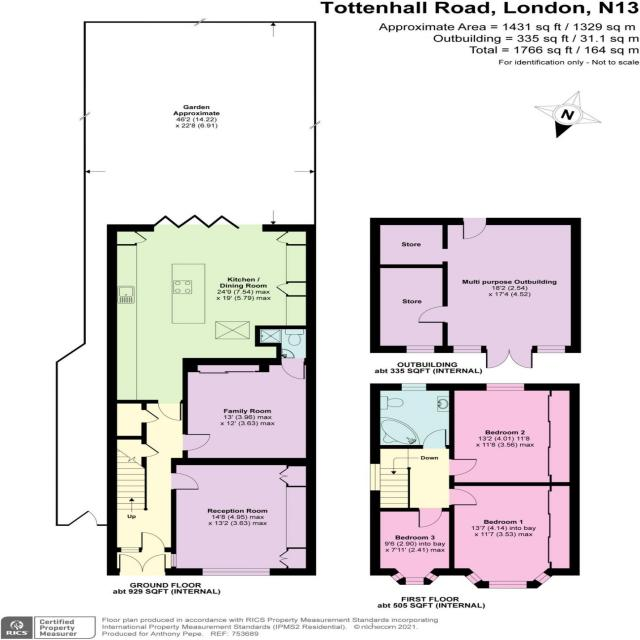DOOR: (461, 217, 487, 240), (449, 458, 478, 477), (281, 358, 306, 380), (418, 305, 448, 323), (157, 400, 182, 421), (182, 433, 211, 451), (417, 508, 443, 528), (171, 472, 199, 490), (450, 488, 478, 506), (141, 532, 166, 552)
FOLDING DOOR: (149, 212, 263, 231), (484, 345, 535, 371)
ROOM: (107, 214, 316, 421), (171, 458, 316, 576), (182, 358, 317, 466), (449, 482, 580, 589), (450, 383, 580, 486), (370, 508, 455, 586)
WINDOW: (201, 567, 272, 576), (484, 580, 528, 589), (485, 383, 525, 391), (536, 345, 567, 355), (370, 463, 381, 491), (533, 571, 553, 586), (400, 383, 428, 392), (404, 346, 435, 354), (451, 345, 482, 353), (464, 571, 483, 584), (401, 577, 426, 585), (425, 570, 440, 583), (389, 571, 405, 582), (120, 547, 140, 553), (170, 553, 177, 567)
